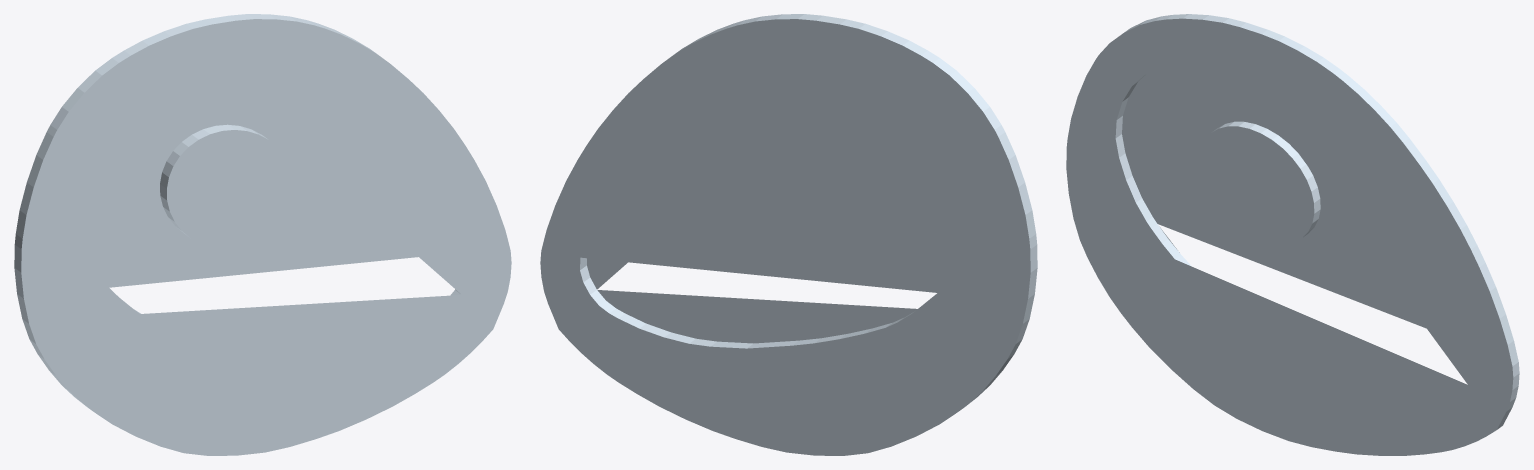
Rendered from Avocado_3D_Icon.fbx.
The picture shows the model from 3 angles, left to right: view 1: azimuth 30°, elevation 25°; view 2: azimuth 150°, elevation 25°; view 3: azimuth 330°, elevation 25°; orthographic projection. The views are drawn at different scales.
Parts seen in each view (by area): view 1: Avocado_3D_Icon; view 2: Avocado_3D_Icon; view 3: Avocado_3D_Icon.
Boxes of the visible parts, <box> form: Avocado_3D_Icon: <box>14,14,511,455</box>; Avocado_3D_Icon: <box>540,14,1037,455</box>; Avocado_3D_Icon: <box>1066,14,1519,455</box>.
Size of the model in its own units: 98.84 by 85.1 by 2.42.
